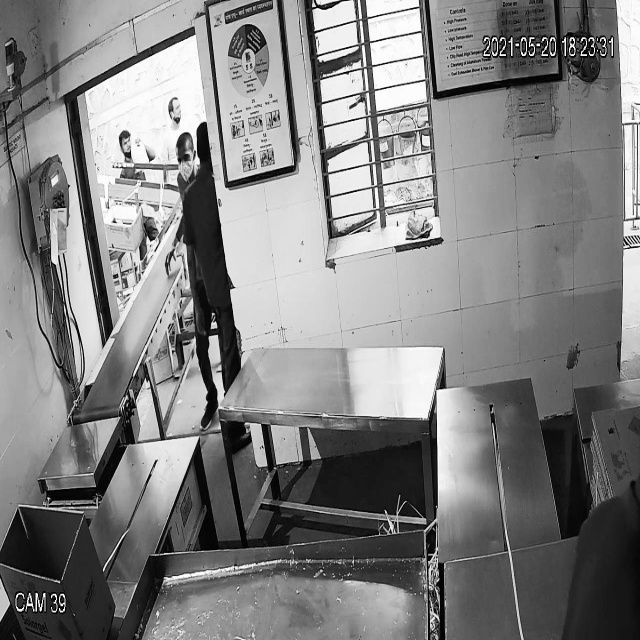Sin_gafas: (174, 148, 195, 171)
